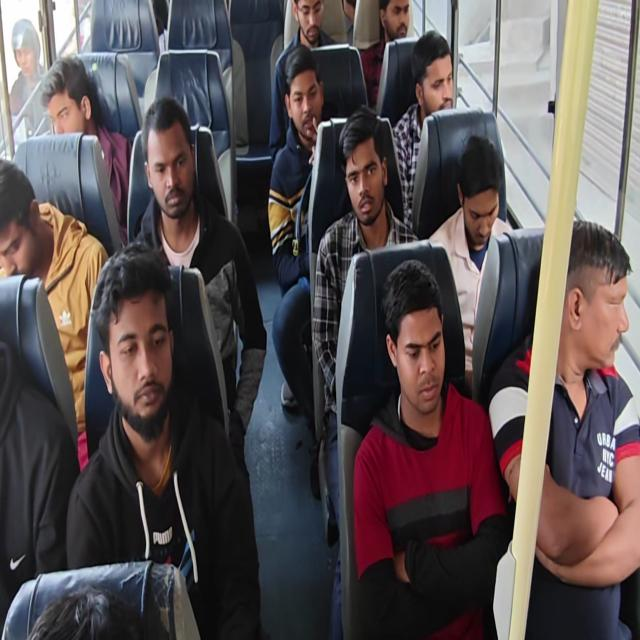person: (65, 241, 262, 638), (488, 218, 639, 638), (352, 258, 508, 638), (131, 96, 267, 480), (312, 105, 418, 544), (0, 158, 109, 471), (424, 134, 514, 396), (0, 341, 80, 634), (268, 44, 326, 419), (40, 54, 132, 235), (391, 29, 454, 233), (269, 0, 338, 150), (28, 585, 142, 639), (359, 0, 409, 109), (8, 18, 47, 133)
